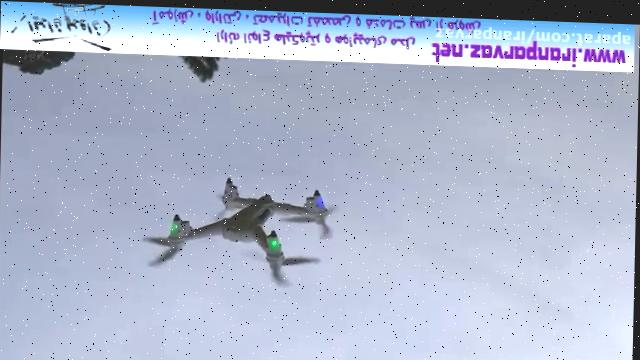drone: (137, 170, 347, 293)
